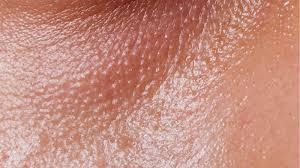Oily-Skin: (12, 11, 231, 143)
